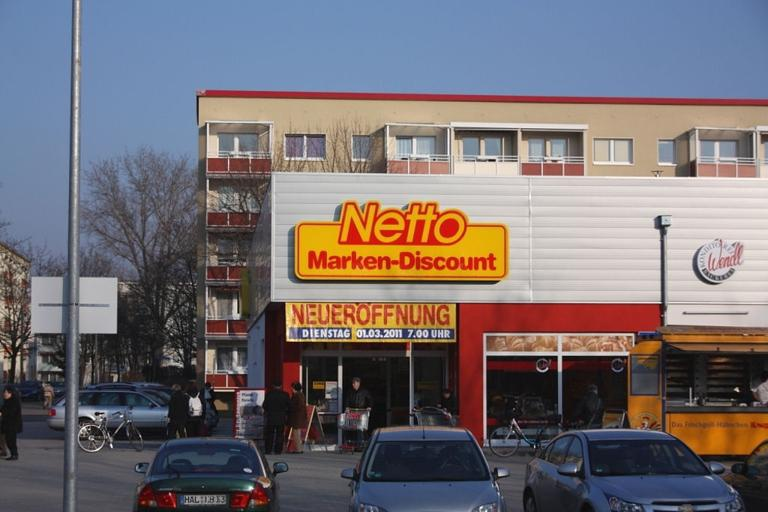non-vehicle: (488, 401, 569, 461), (72, 406, 150, 454)
